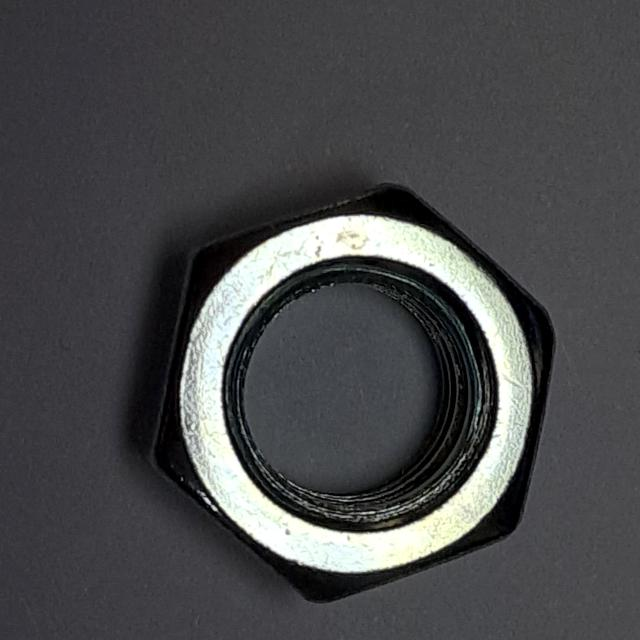Excellent: (132, 166, 572, 618)
